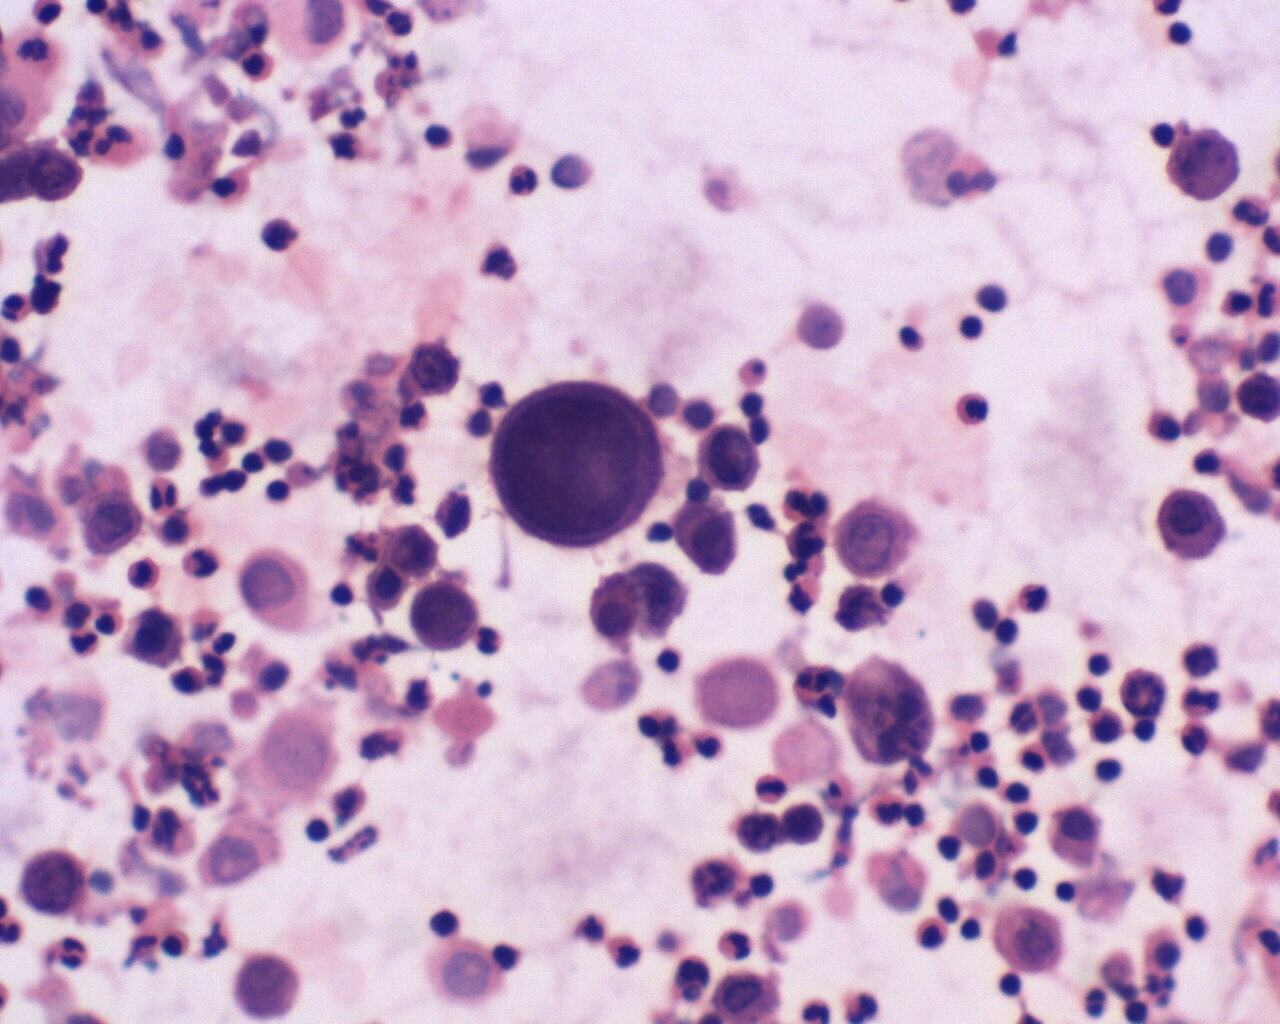ab: (494, 379, 669, 553), (1164, 121, 1244, 200), (404, 580, 480, 658), (233, 950, 309, 1022), (16, 844, 88, 918), (671, 499, 741, 576), (699, 425, 763, 493), (403, 338, 463, 399)
lymph: (421, 903, 462, 942), (1076, 644, 1115, 684), (956, 312, 995, 347), (996, 967, 1031, 1002), (261, 476, 294, 507)
meso: (1156, 487, 1230, 563), (1049, 800, 1109, 875)
neutro: (718, 925, 757, 965), (607, 931, 645, 972), (952, 391, 990, 430), (181, 546, 220, 582), (127, 555, 164, 591), (506, 162, 543, 197), (56, 936, 93, 972), (755, 771, 790, 805)
